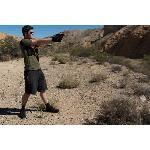Pistol: (57, 32, 66, 39)
